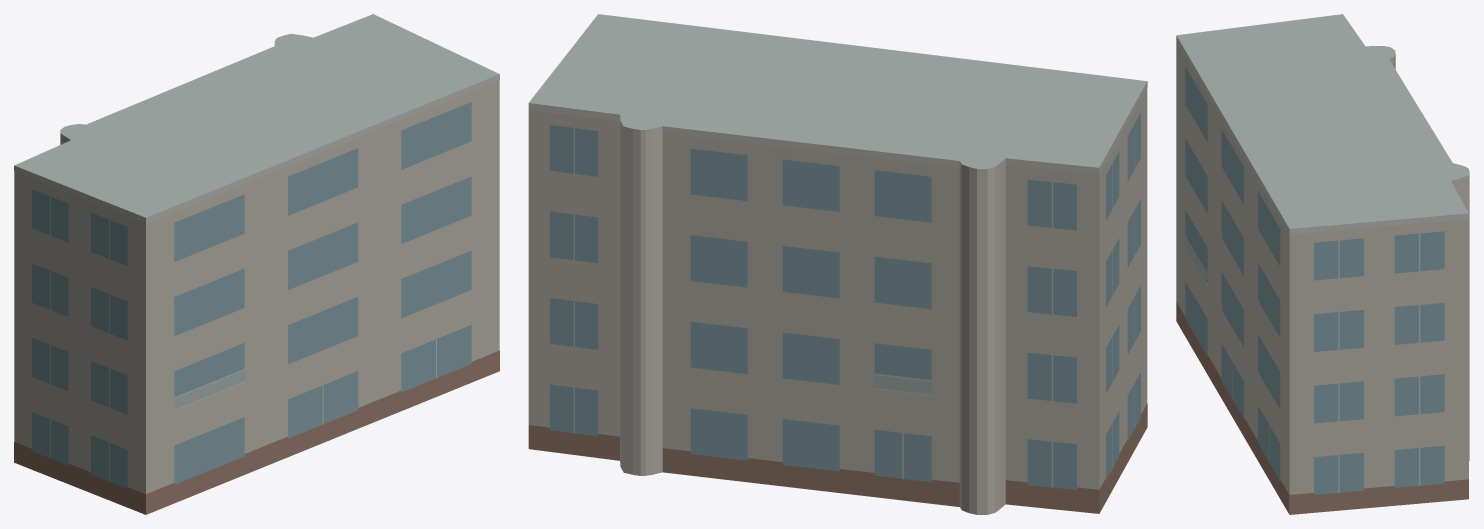
File: survey-upis-32651305.glb
The picture shows the model from 3 angles, left to right: view 1: azimuth 30°, elevation 25°; view 2: azimuth 150°, elevation 25°; view 3: azimuth 270°, elevation 25°; orthographic projection. The views are drawn at different scales.
Parts seen in each view (by area): view 1: survey-upis-32651305.tmp; view 2: survey-upis-32651305.tmp; view 3: survey-upis-32651305.tmp.
Boxes of the visible parts, bbox=[...] form: survey-upis-32651305.tmp: bbox=[14, 14, 499, 514]; survey-upis-32651305.tmp: bbox=[528, 14, 1147, 514]; survey-upis-32651305.tmp: bbox=[1176, 14, 1469, 514].
Bounding box in the file's own units: 19.69 × 12.2 × 11.35.
